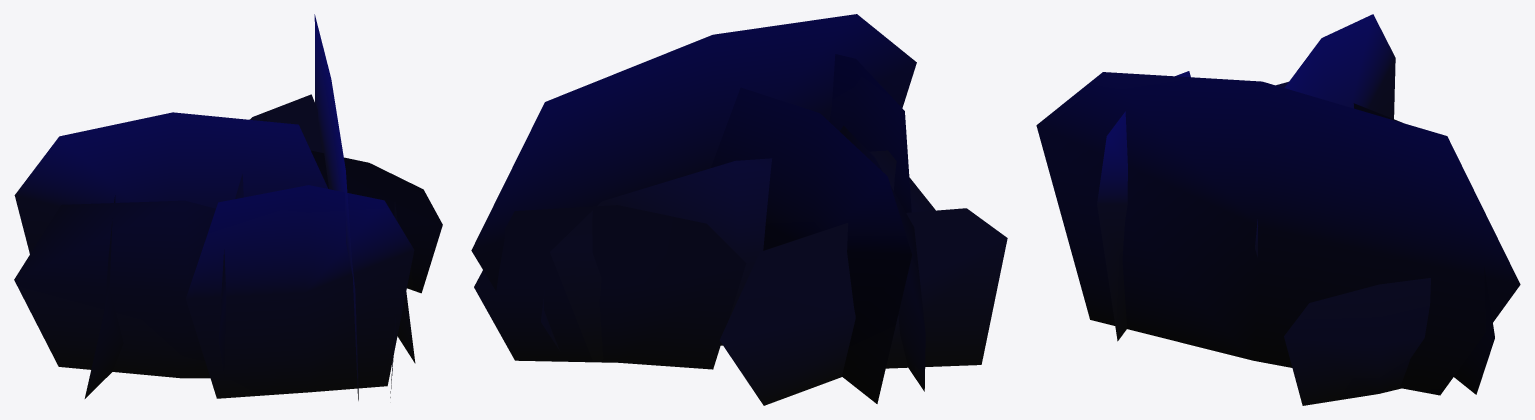
File: SM_Grass_S_Patch_S_03.fbx
The picture shows the model from 3 angles, left to right: view 1: azimuth 30°, elevation 25°; view 2: azimuth 150°, elevation 25°; view 3: azimuth 270°, elevation 25°; orthographic projection. The views are drawn at different scales.
Parts seen in each view (by area): view 1: SM_Grass_S_Patch_S_03; view 2: SM_Grass_S_Patch_S_03; view 3: SM_Grass_S_Patch_S_03.
Part boxes in pixels (left/top/right/bottom): SM_Grass_S_Patch_S_03: left=14, top=14, right=442, bottom=400; SM_Grass_S_Patch_S_03: left=471, top=14, right=1007, bottom=405; SM_Grass_S_Patch_S_03: left=1036, top=14, right=1520, bottom=405.
Bounding box in the file's own units: 61.68 × 64.5 × 39.65.
